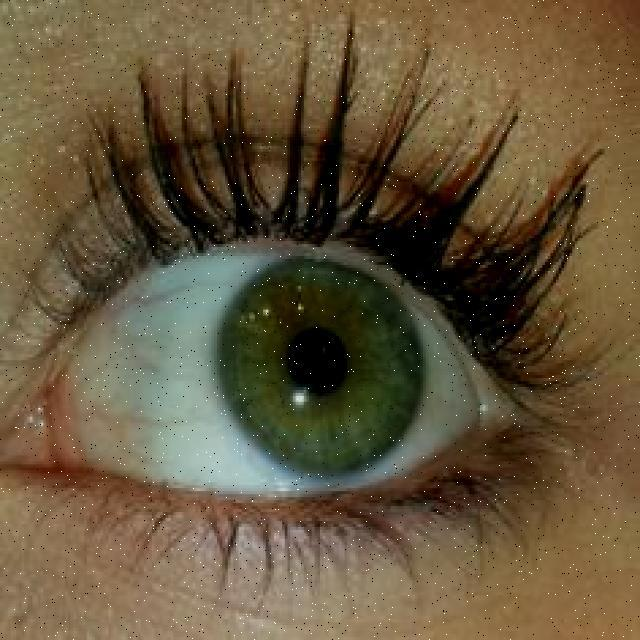Normal: (0, 8, 616, 590)
